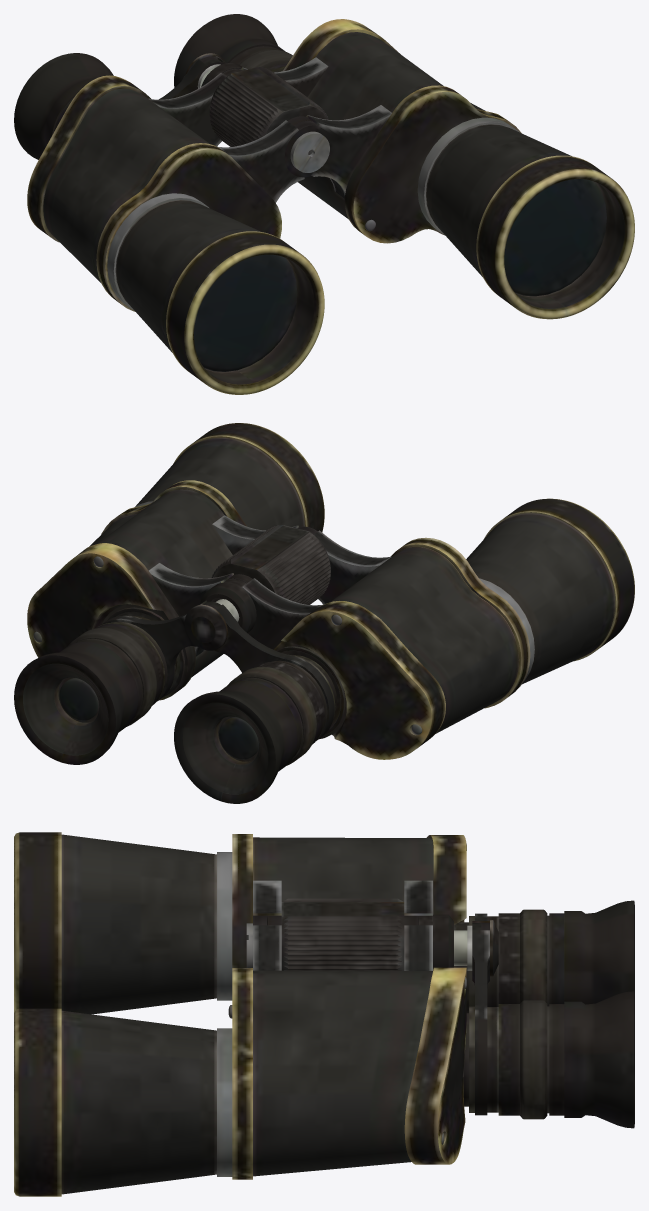
The picture shows the model from 3 angles, top to bottom: view 1: azimuth 30°, elevation 25°; view 2: azimuth 150°, elevation 25°; view 3: azimuth 270°, elevation 25°; orthographic projection. The views are drawn at different scales.
Visible parts, largest first — view 1: vintage_binocular_right_prism, vintage_binocular_left_prism, vintage_binocular_right_lens, vintage_binocular_focus, vintage_binocular_left_lens, vintage_binocular_middle; view 2: vintage_binocular_right_prism, vintage_binocular_left_prism, vintage_binocular_left_lens, vintage_binocular_right_lens, vintage_binocular_focus, vintage_binocular_diopter, vintage_binocular_eye_relief, vintage_binocular_middle; view 3: vintage_binocular_left_prism, vintage_binocular_right_prism, vintage_binocular_left_lens, vintage_binocular_right_lens, vintage_binocular_focus, vintage_binocular_diopter, vintage_binocular_middle, vintage_binocular_eye_relief.
Part boxes in pixels (x1,y1,x2,y2): vintage_binocular_right_prism: [27, 73, 324, 394]; vintage_binocular_left_prism: [223, 19, 634, 319]; vintage_binocular_right_lens: [14, 53, 224, 159]; vintage_binocular_focus: [209, 67, 328, 146]; vintage_binocular_left_lens: [174, 14, 292, 87]; vintage_binocular_middle: [201, 63, 329, 172]; vintage_binocular_right_prism: [228, 498, 634, 759]; vintage_binocular_left_prism: [27, 423, 324, 700]; vintage_binocular_left_lens: [14, 600, 217, 764]; vintage_binocular_right_lens: [174, 601, 336, 803]; vintage_binocular_focus: [211, 525, 330, 604]; vintage_binocular_diopter: [227, 661, 324, 765]; vintage_binocular_eye_relief: [184, 599, 239, 650]; vintage_binocular_middle: [200, 582, 256, 633]; vintage_binocular_left_prism: [14, 915, 466, 1196]; vintage_binocular_right_prism: [14, 832, 466, 1018]; vintage_binocular_left_lens: [463, 923, 634, 1128]; vintage_binocular_right_lens: [456, 900, 634, 1012]; vintage_binocular_focus: [281, 898, 404, 970]; vintage_binocular_diopter: [498, 909, 547, 1003]; vintage_binocular_middle: [246, 914, 453, 970]; vintage_binocular_eye_relief: [454, 920, 498, 976].
Bounding box in the file's own units: 0.194 × 0.0684 × 0.1992.
Materials: 1 (1 with a texture image).
